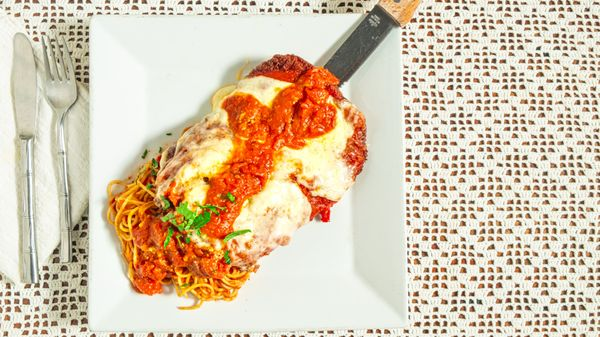sandwich: (319, 1, 421, 86)
